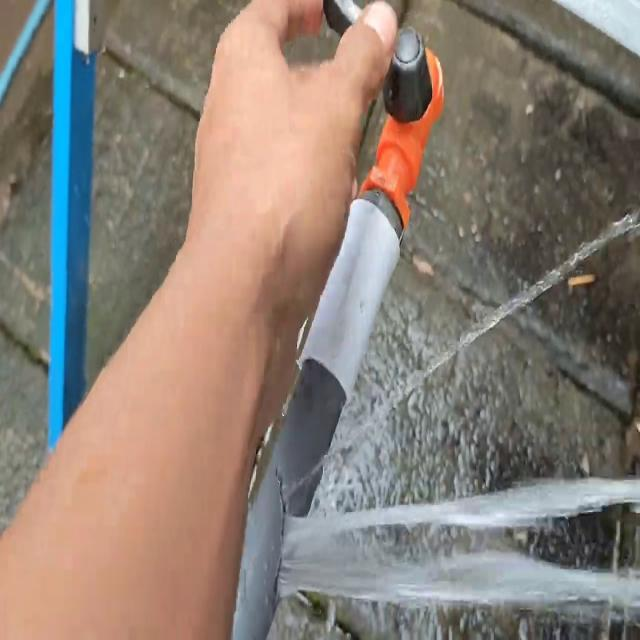leak: (274, 199, 640, 615)
